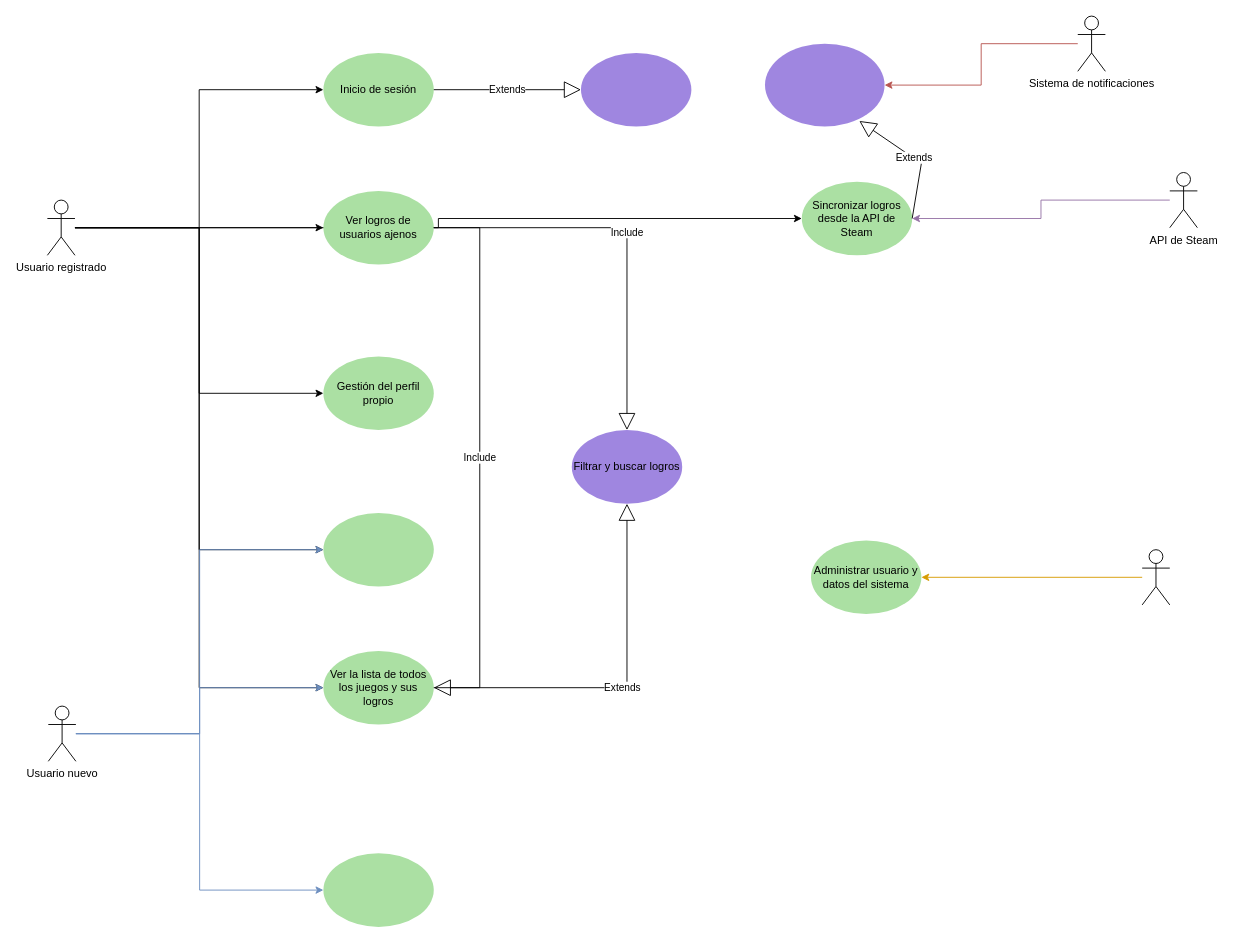
Some shapes in this 1233 by 943 pixel diagram are drawn without their labels. The shapes that lost their labels are listed below. From the top down, each one's centre as x and y in pixels, then its label:
pixel 636 89: Recuperarción de la contraseña
pixel 824 84: Recibir notificaciones de la inclusión de nuevos logros
pixel 378 549: Ver las clasificaciones
pixel 1155 577: Administrador
pixel 378 889: Registrarse
